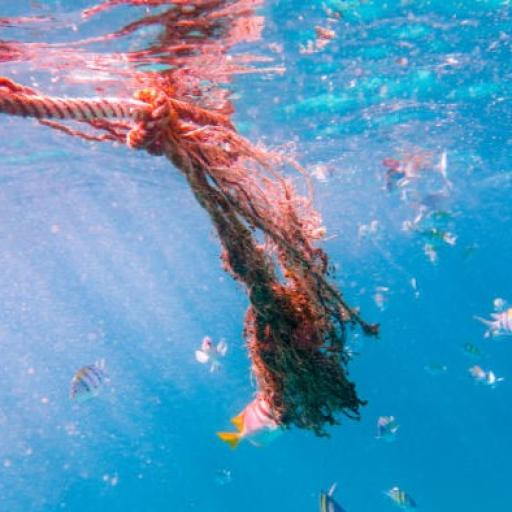net: (4, 67, 395, 442)
